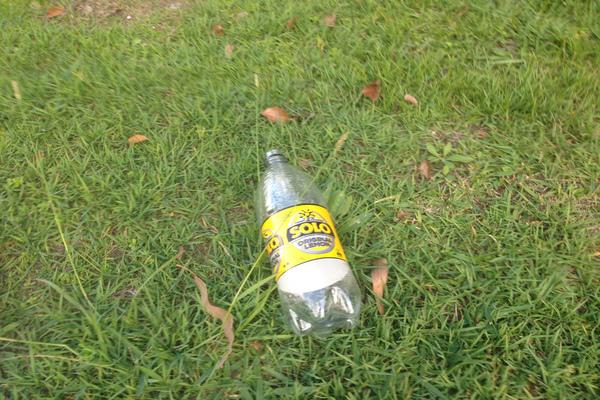Plastic Bottle: (255, 149, 364, 337)
